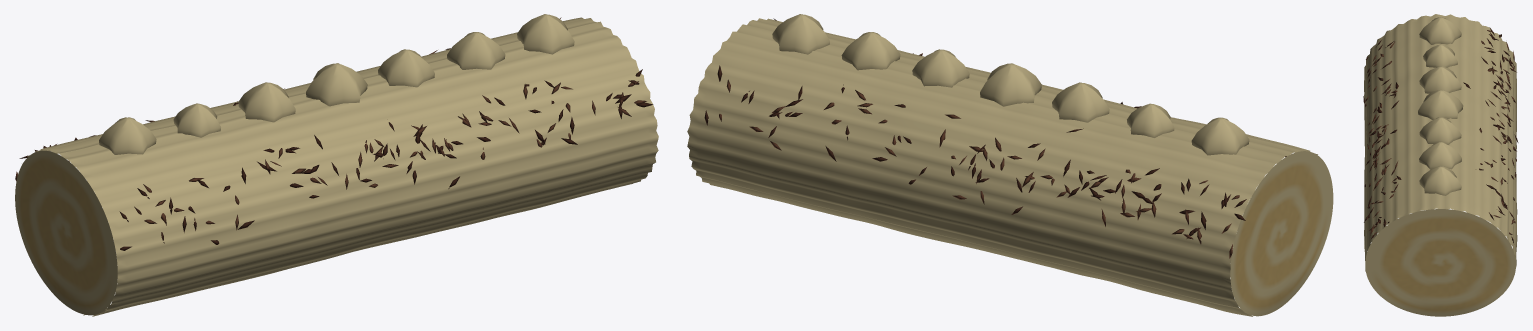
File: buttercreme-rolle.glb
3 renders of one model, left to right at view 1: azimuth 30°, elevation 25°; view 2: azimuth 150°, elevation 25°; view 3: azimuth 270°, elevation 25°, orthographic. The views are drawn at different scales.
Visible parts, largest first — view 1: buttercreme-rolle; view 2: buttercreme-rolle; view 3: buttercreme-rolle.
Boxes of the visible parts, x1=… form: buttercreme-rolle: x1=15, y1=14, x2=658, y2=316; buttercreme-rolle: x1=687, y1=14, x2=1333, y2=316; buttercreme-rolle: x1=1363, y1=14, x2=1518, y2=316.
Size of the model in its own units: 0.3034 by 0.0939 by 0.1013.
